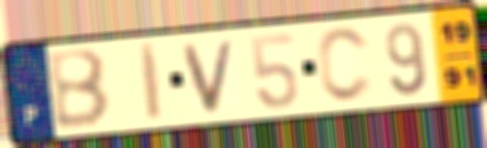5: (247, 30, 300, 111)
9: (383, 20, 428, 99)
B: (44, 46, 113, 132)
C: (315, 24, 376, 106)
I: (137, 40, 166, 124)
V: (179, 36, 240, 116)
